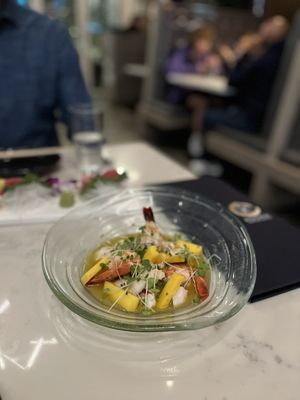curry: (0, 137, 299, 400)
pasta: (203, 11, 300, 214)
